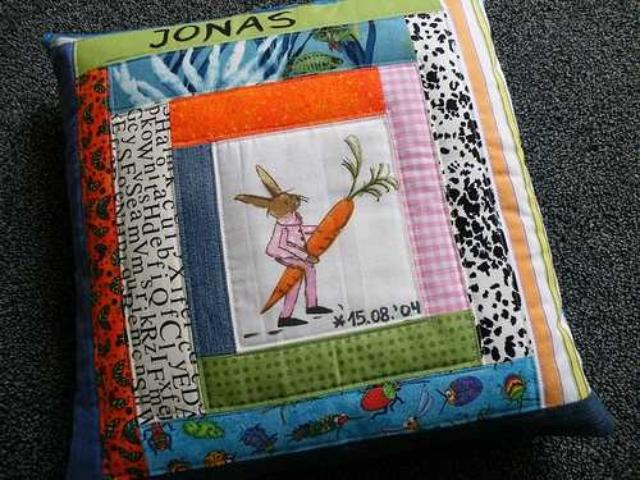pillow: (41, 0, 613, 478)
